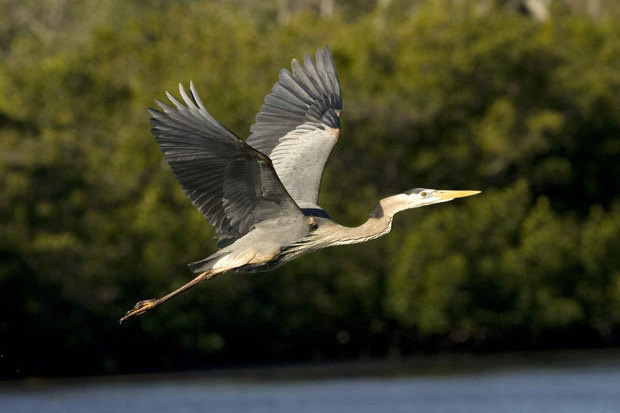heron: (119, 41, 481, 324)
